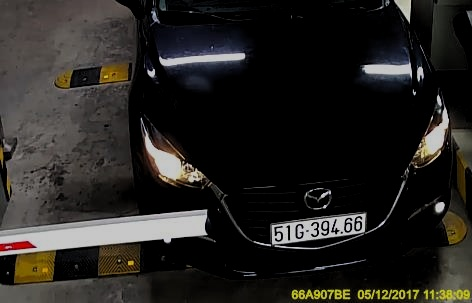plate: (267, 211, 372, 247)
